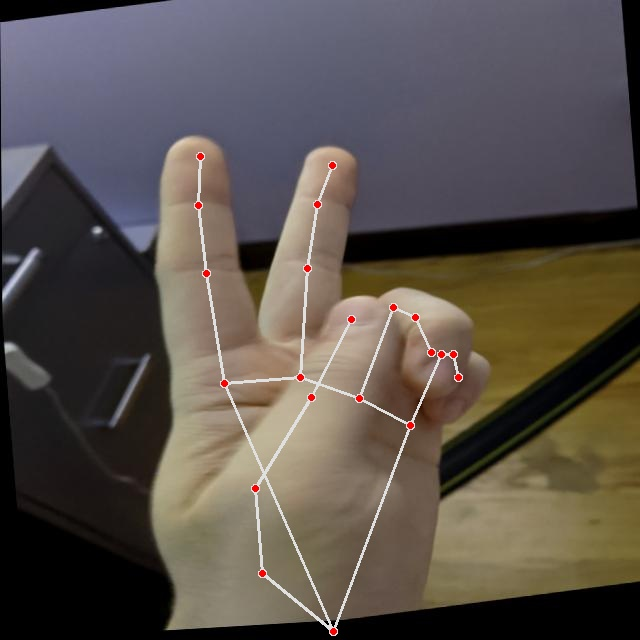K: (98, 88, 519, 634)
